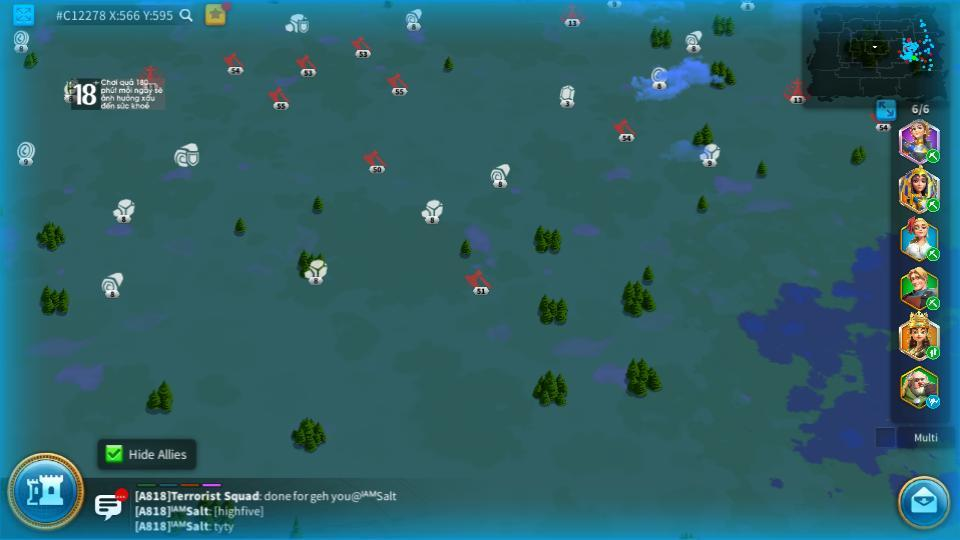gem-z-out: (557, 85, 575, 107)
march_farming: (924, 197, 939, 212), (925, 248, 941, 261), (924, 149, 939, 162)
march_idle: (925, 396, 942, 408)
march_marching: (925, 347, 941, 359)
